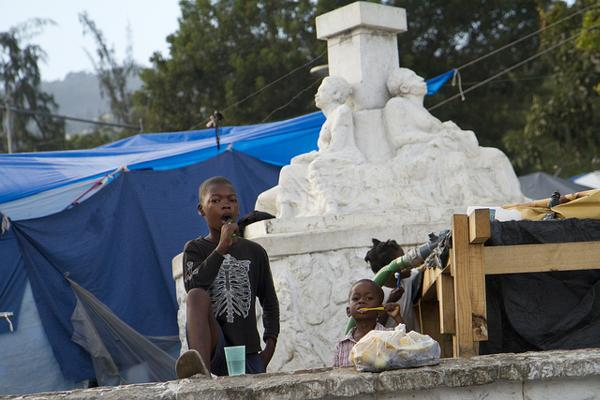person: (175, 176, 282, 381)
